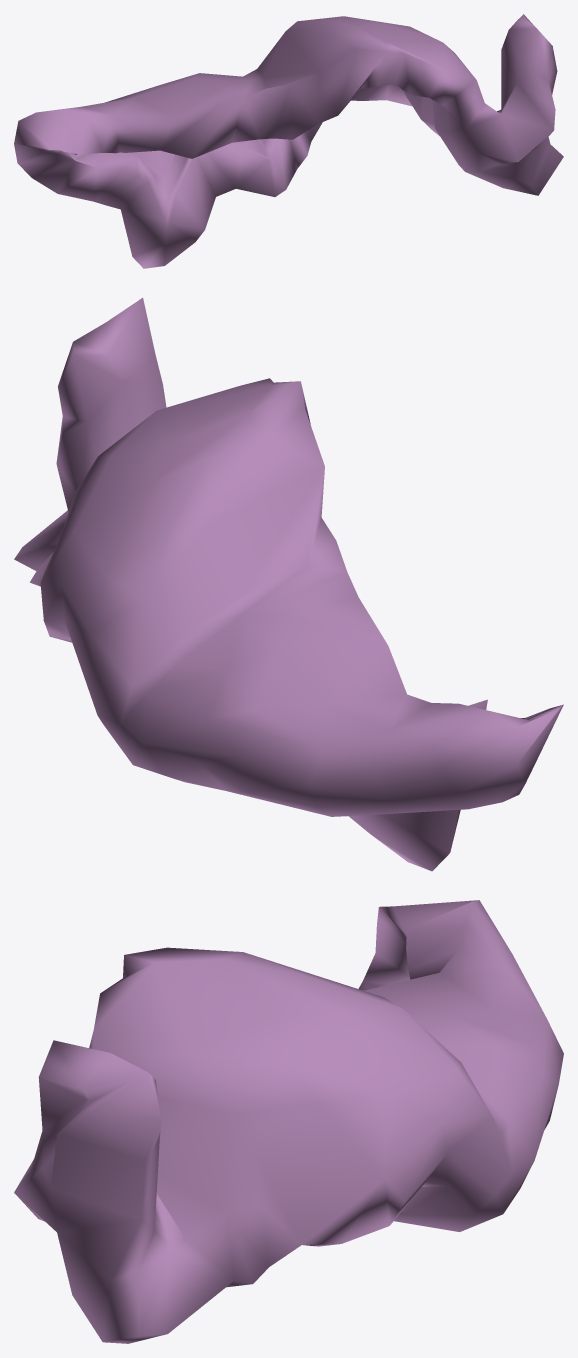
The picture shows the model from 3 angles, top to bottom: view 1: azimuth 30°, elevation 25°; view 2: azimuth 150°, elevation 25°; view 3: azimuth 270°, elevation 25°; orthographic projection. The views are drawn at different scales.
Parts seen in each view (by area): view 1: 右侧中央前沟上部; view 2: 右侧中央前沟上部; view 3: 右侧中央前沟上部.
Part boxes in pixels (bbox=[...]): 右侧中央前沟上部: bbox=[14, 14, 563, 268]; 右侧中央前沟上部: bbox=[14, 297, 563, 871]; 右侧中央前沟上部: bbox=[14, 900, 563, 1343].
Bounding box in the file's own units: 0.0578 × 0.0301 × 0.0395.
